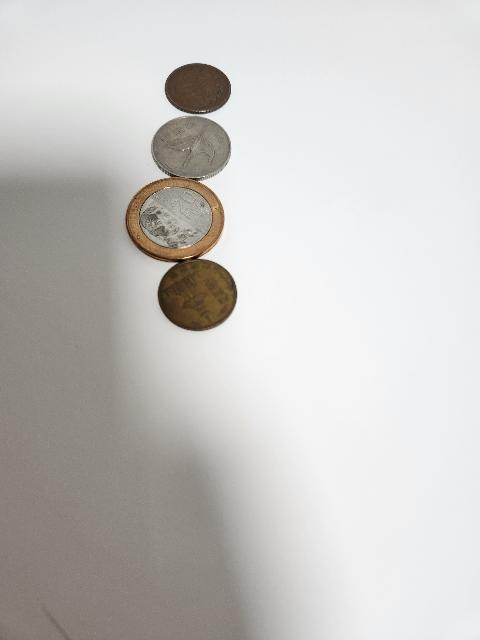coin: (127, 176, 223, 260), (148, 111, 234, 181), (160, 258, 234, 328), (160, 56, 234, 116)
